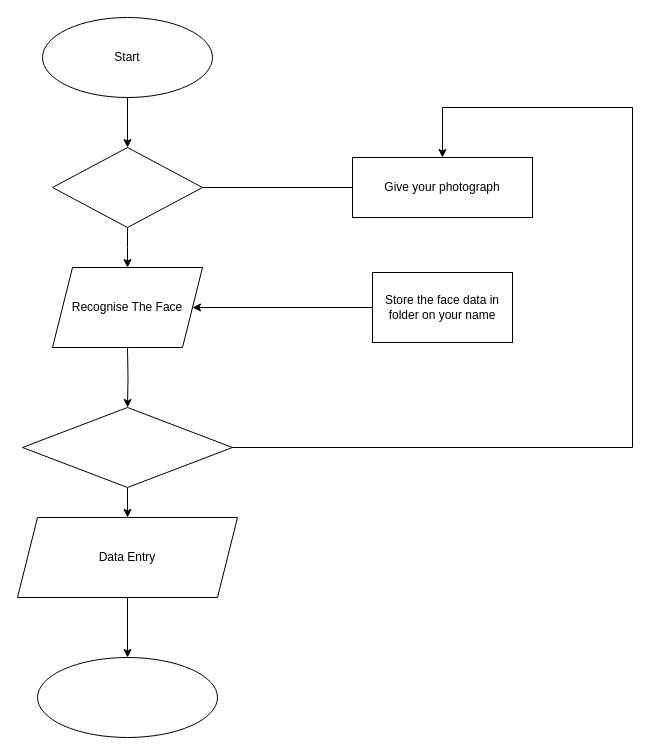
This 651x755 diagram has some shape labels left out. The box of each missing label's shape, as (x1, y1, x2, y2) in pixels:
End: (36, 656, 218, 738)
face recognised: (22, 406, 232, 488)
New User: (52, 146, 202, 228)
